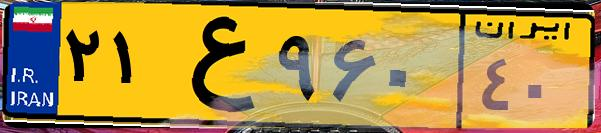0: (385, 28, 445, 110), (525, 38, 570, 115)
1: (110, 28, 158, 98)
2: (57, 26, 110, 100)
4: (475, 38, 525, 113)
6: (330, 28, 385, 110)
9: (270, 28, 330, 110)
ع: (158, 12, 270, 120)
